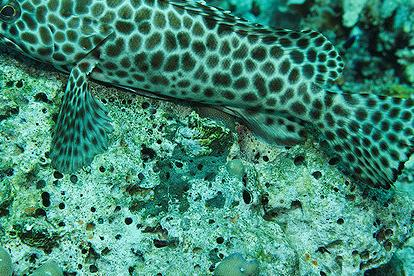Serranidae -Groupers-: (0, 0, 414, 194)
